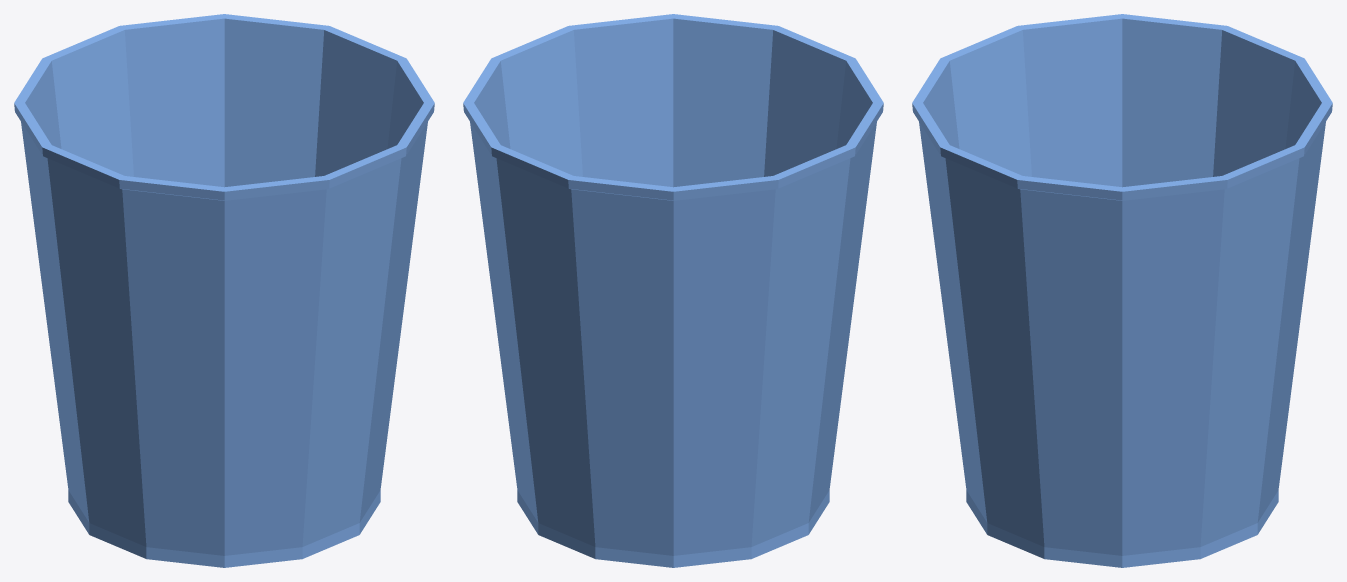
The model's file is trashcan.fbx.
3 renders of one model, left to right at view 1: azimuth 30°, elevation 25°; view 2: azimuth 150°, elevation 25°; view 3: azimuth 270°, elevation 25°, orthographic.
Visible parts, largest first — view 1: Cylinder; view 2: Cylinder; view 3: Cylinder.
Part boxes in pixels (x1,y1,x2,y2): Cylinder: (14, 14, 434, 567); Cylinder: (463, 14, 883, 567); Cylinder: (912, 14, 1332, 567).
Bounding box in the file's own units: 57.2 × 59.87 × 57.2.
